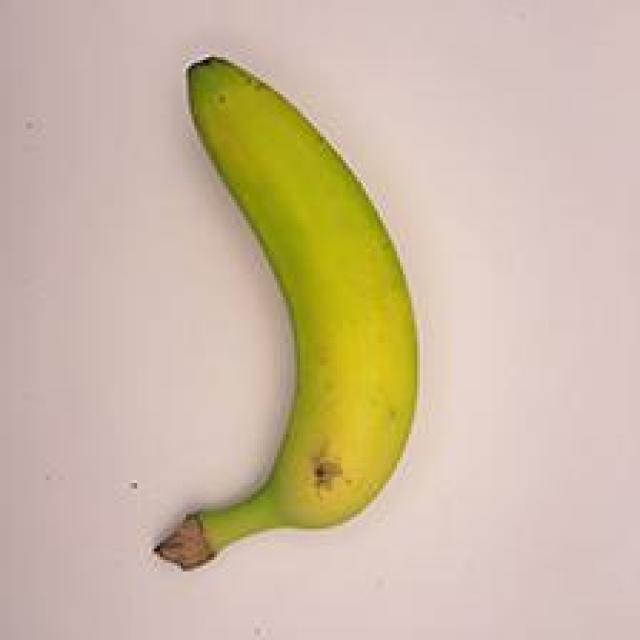Unripe: (117, 47, 449, 583)
